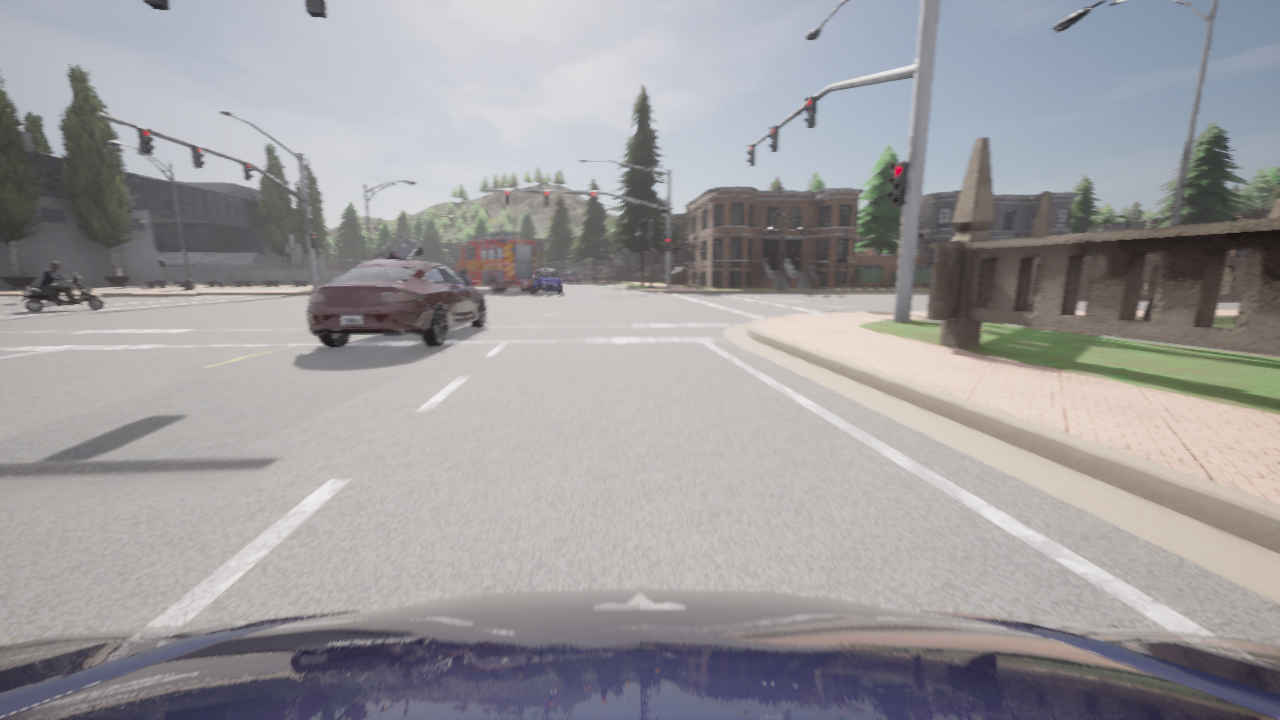cyclist: (0, 588, 1279, 719), (307, 259, 488, 347), (452, 230, 543, 291), (20, 272, 104, 311), (372, 235, 423, 260), (531, 269, 561, 294), (560, 270, 580, 282), (321, 284, 324, 285)
